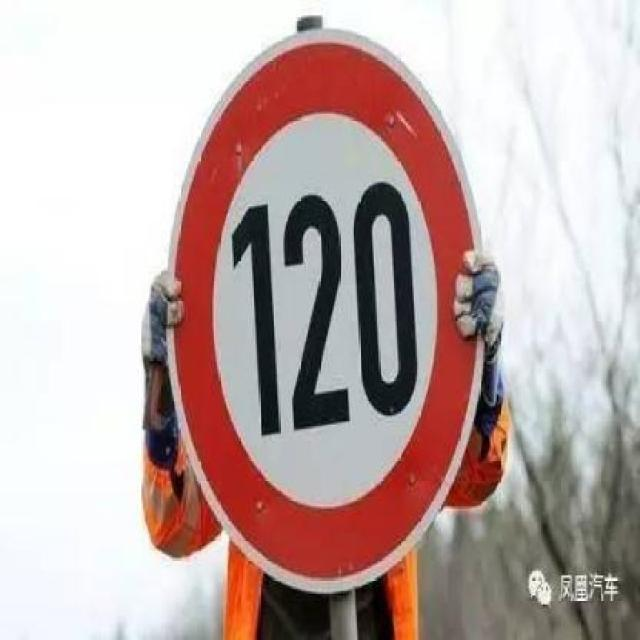forb_speed_over_120: (173, 40, 482, 589)
